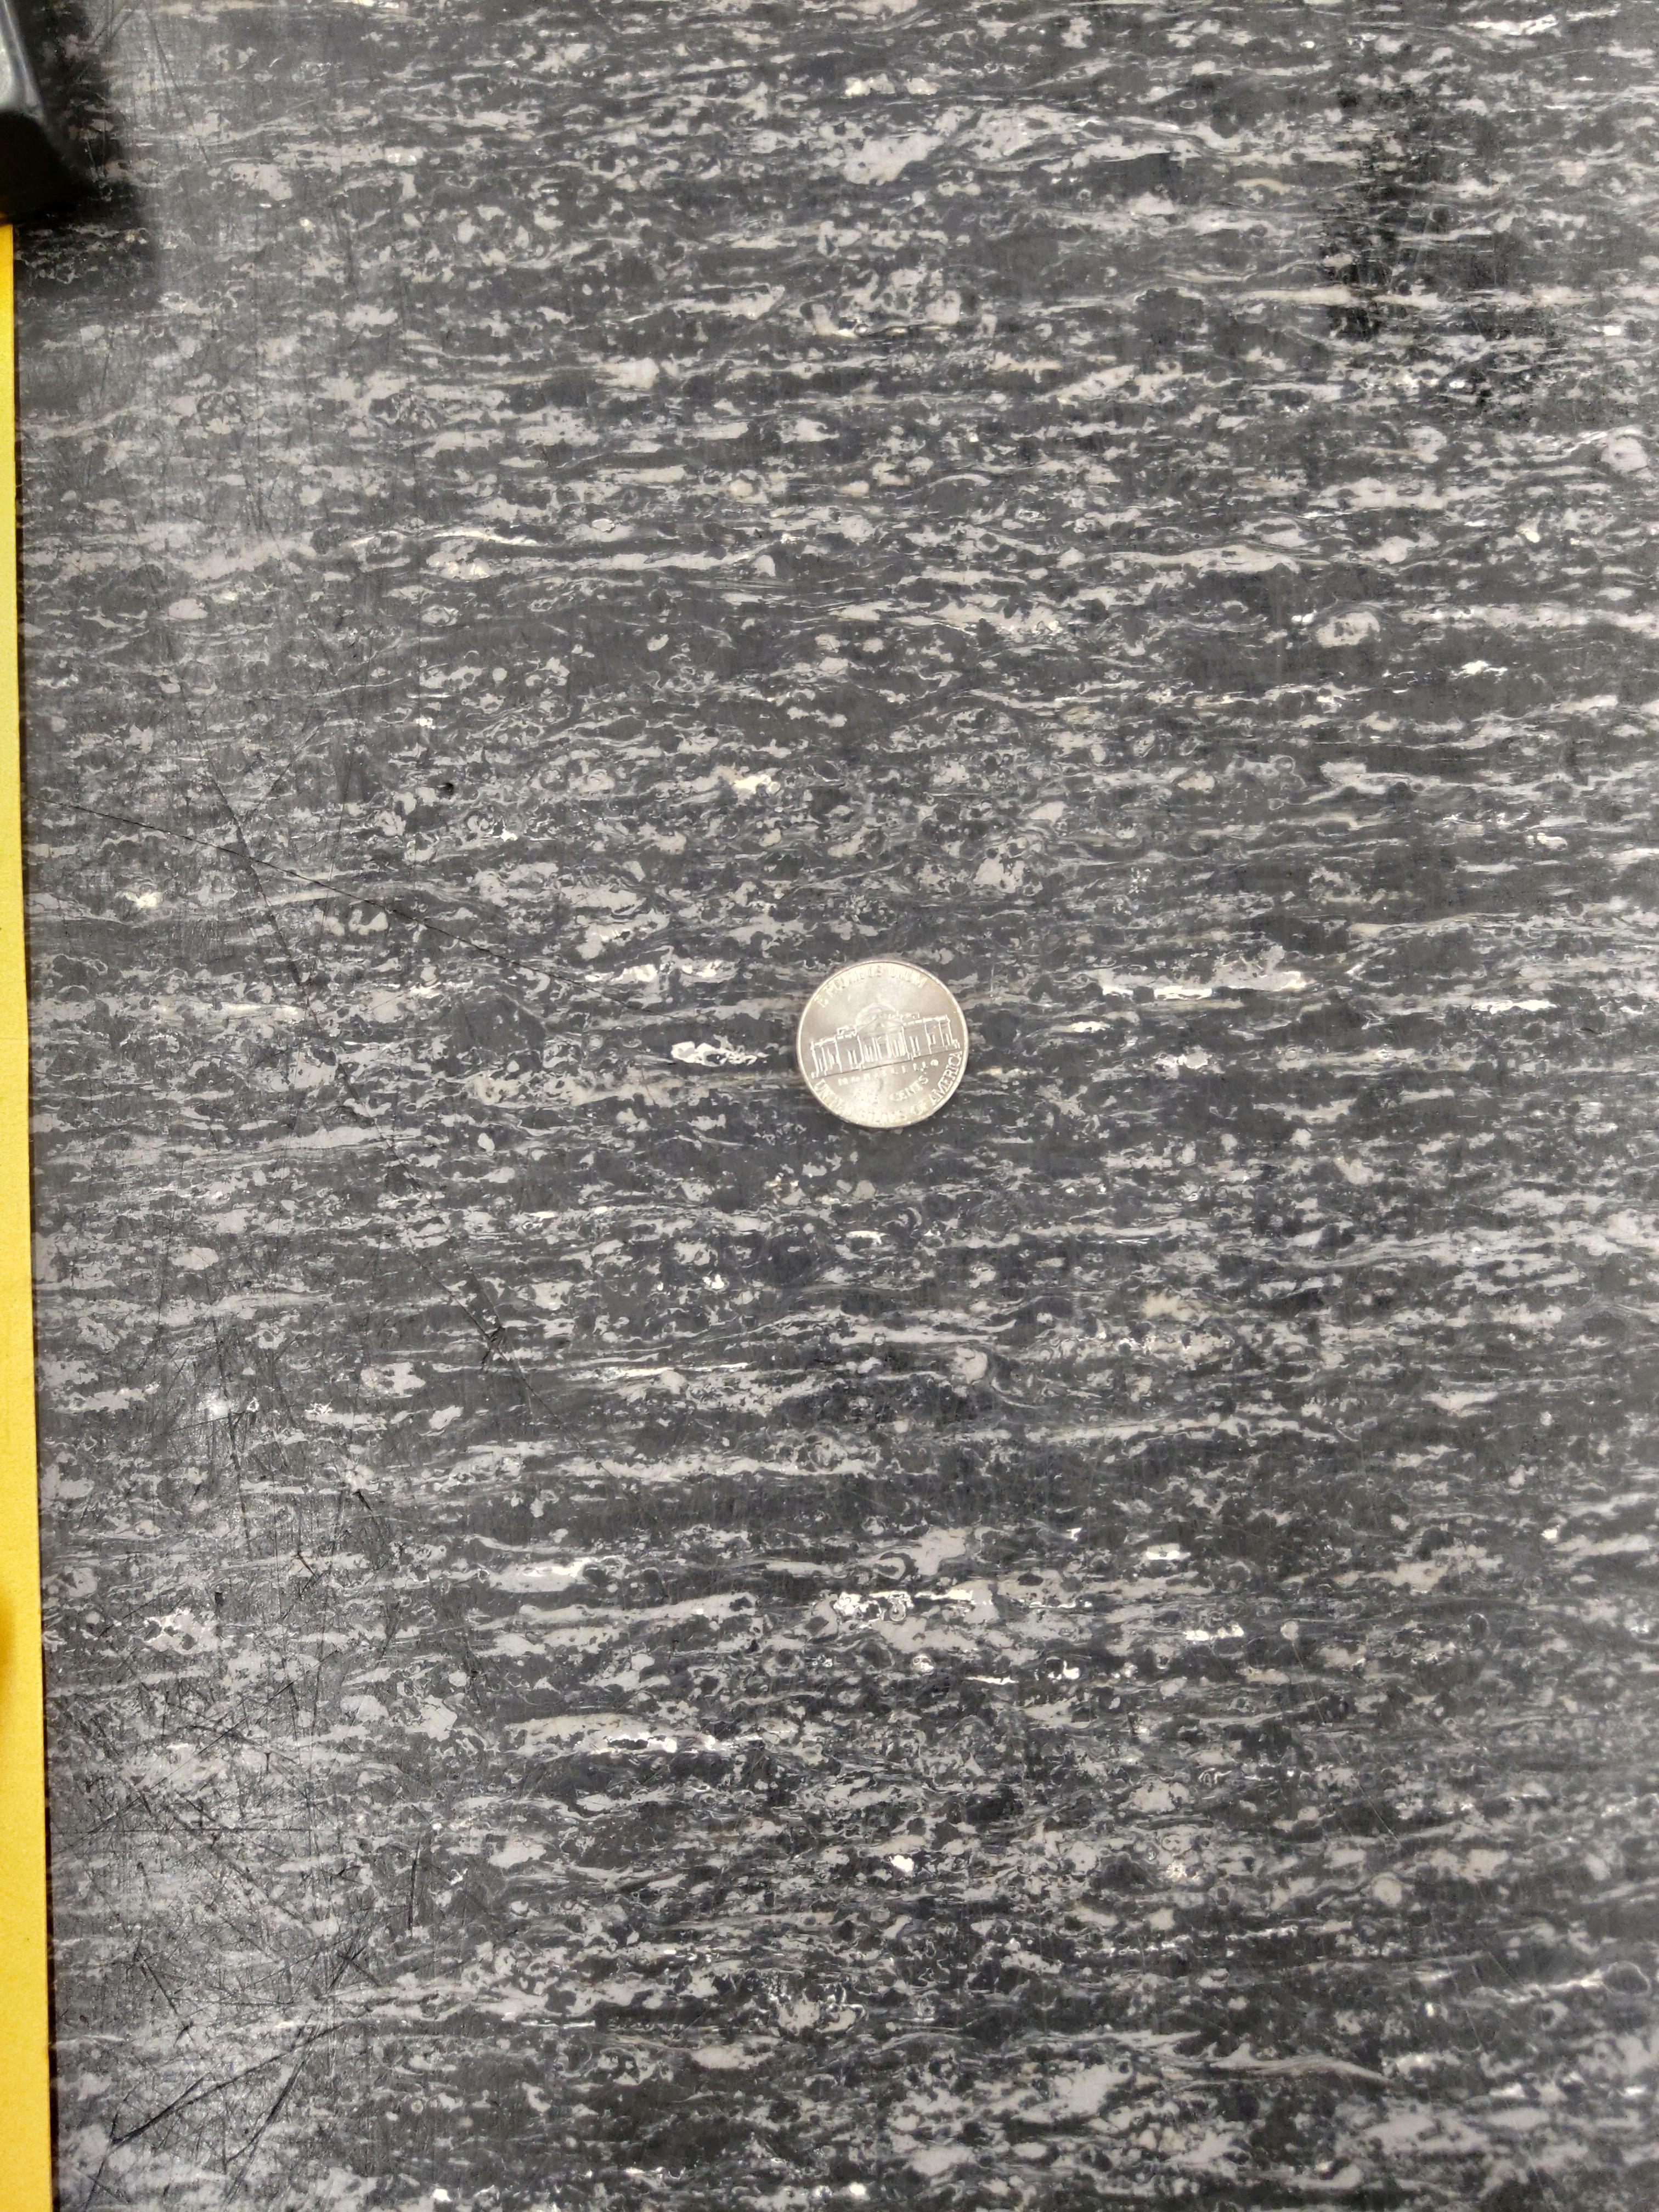Nickel: (796, 958, 972, 1130)
